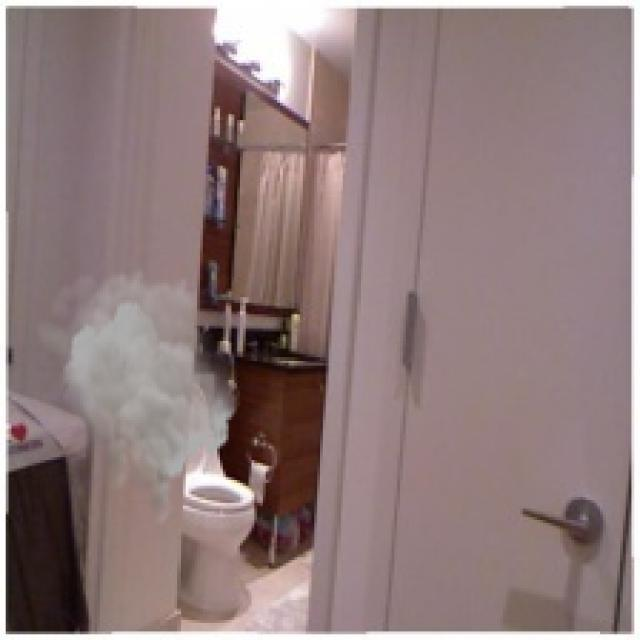Smoke: (34, 266, 240, 528)
